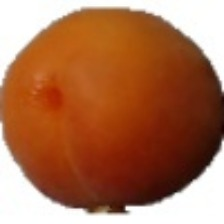apricot: (43, 0, 219, 195)
